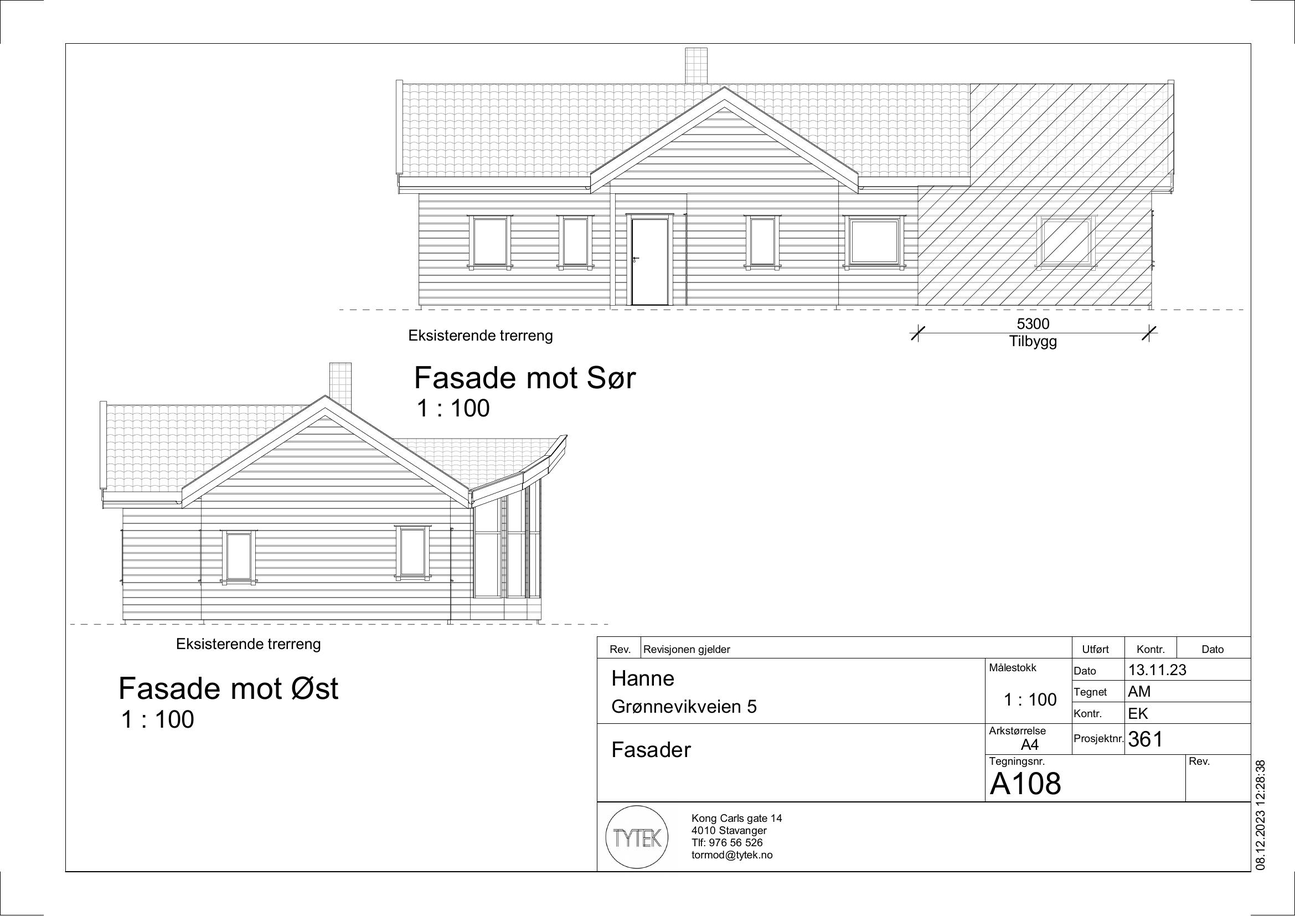fasade: (393, 45, 1178, 317), (97, 361, 569, 632)
